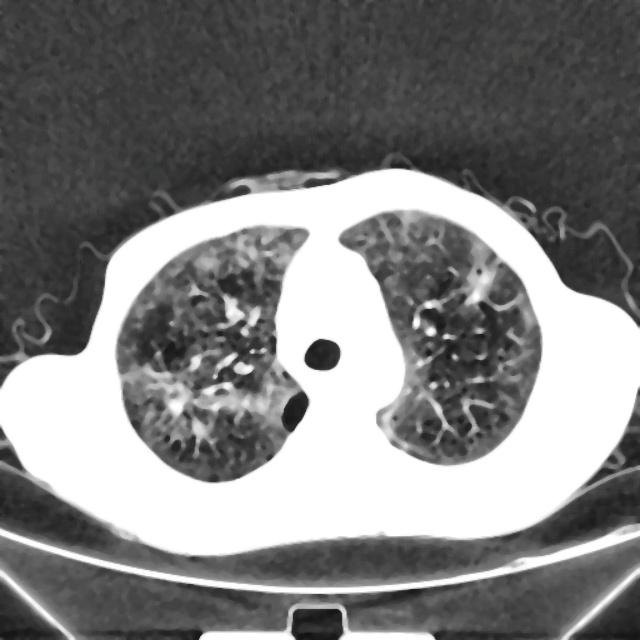covid: (1, 164, 638, 556)
